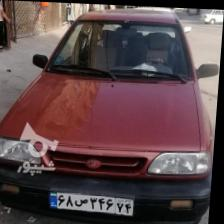plate: (49, 191, 138, 214)
